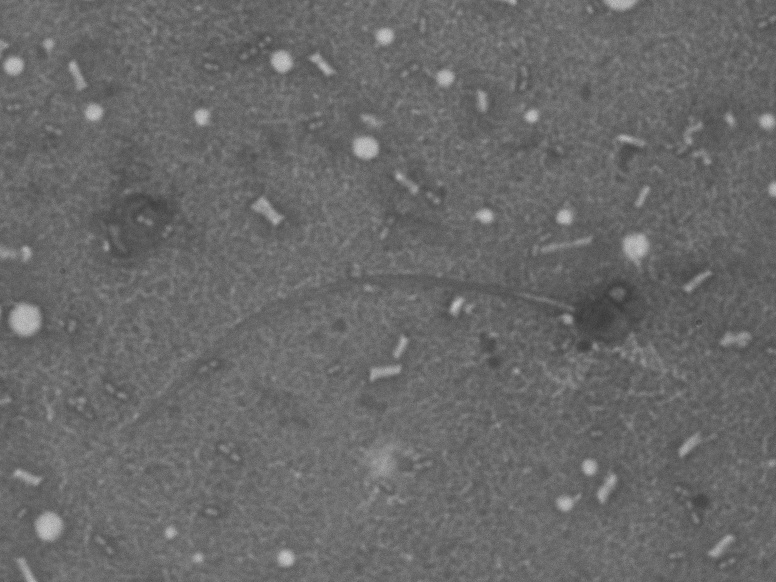Abnormal: (124, 250, 675, 461)
